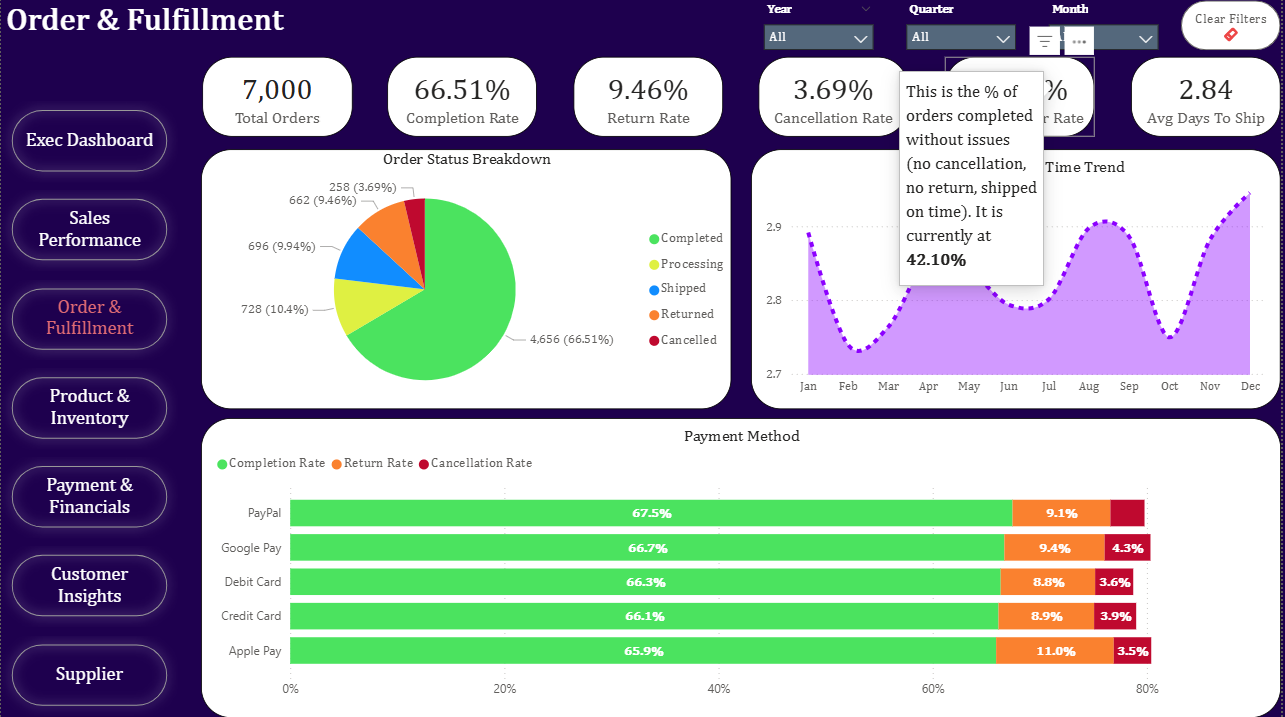

Layout of this report page (visuals, bound fields, positions):
{"tool":"powerbi","page":{"name":"Order & Fulfillment","canvas":[1280,720],"ordinal":2},"visuals":[{"type":"card","title":"Days To Ship","fields":{"Values":["Order & Fulfillment Measure.Days To Ship"]},"box":[1129.7,59,150,79.8],"z":0},{"type":"card","title":"Cancellation Rate","fields":{"Values":["Order & Fulfillment Measure.Cancellation Rate"]},"box":[758.1,59,150,79.8],"z":1000},{"type":"card","title":"Return Rate","fields":{"Values":["Order & Fulfillment Measure.Return Rate"]},"box":[572.3,59,150,79.8],"z":2000},{"type":"card","title":"Completion Rate","fields":{"Values":["Order & Fulfillment Measure.Completion Rate"]},"box":[386.5,59,150,79.8],"z":3000},{"type":"card","title":"Total Orders","fields":{"Values":["Order & Fulfillment Measure.Total Orders"]},"box":[200.6,59,150,80],"z":4000},{"type":"lineChart","title":"Average Fulfillment Time Trend","fields":{"Category":["Calendar.Month Name"],"Y":["Order & Fulfillment Measure.Days To Ship"]},"box":[750.3,151,529.7,260.4],"z":5000},{"type":"pieChart","title":"Order Status Breakdown","fields":{"Category":["orders.status"],"Y":["Order & Fulfillment Measure.Total Orders"]},"box":[200.3,151.4,530,260],"z":6000},{"type":"slicer","title":"Year","fields":{"Values":["Calendar.Year"]},"box":[752,0,130,55],"z":7000},{"type":"slicer","title":"Quarter","fields":{"Values":["Calendar.Quarter1"]},"box":[894.6,0,130,55],"z":8000},{"type":"slicer","title":"Month Slicer","fields":{"Values":["Calendar.Month Name"]},"box":[1037.2,0,130,55],"z":9000},{"type":"textbox","title":"Header Text Box","box":[0,0,294.8,51],"z":10000},{"type":"actionButton","title":"Clear Filter","box":[1180.5,2.5,99.5,49.8],"z":11000},{"type":"pageNavigator","box":[0,100.8,177.9,619.5],"z":12000},{"type":"barChart","title":"Payment Method","fields":{"Category":["orders.payment_method"],"Y":["Order & Fulfillment Measure.Completion Rate","Order & Fulfillment Measure.Return Rate","Order & Fulfillment Measure.Cancellation Rate"]},"box":[200.2,420.2,1079.8,299.8],"z":13000},{"type":"card","title":"Total Orders","fields":{"Values":["Order & Fulfillment Measure.Perfect Order Rate"]},"box":[943.9,59,150,79.8],"z":14000}]}

Visuals, with their boxes in screenshot pixels (x1, y1, x2, y2), scaled from the page's 1280x720 canvas onto the 1285x717 screenshot:
"Days To Ship" card: detection(1134, 59, 1284, 138)
"Cancellation Rate" card: detection(761, 59, 912, 138)
"Return Rate" card: detection(575, 59, 725, 138)
"Completion Rate" card: detection(388, 59, 539, 138)
"Total Orders" card: detection(201, 59, 352, 138)
"Average Fulfillment Time Trend" lineChart: detection(753, 150, 1284, 410)
"Order Status Breakdown" pieChart: detection(201, 151, 733, 410)
"Year" slicer: detection(755, 0, 885, 55)
"Quarter" slicer: detection(898, 0, 1029, 55)
"Month Slicer" slicer: detection(1041, 0, 1172, 55)
"Header Text Box" textbox: detection(0, 0, 296, 51)
"Clear Filter" actionButton: detection(1185, 2, 1284, 52)
pageNavigator: detection(0, 100, 179, 716)
"Payment Method" barChart: detection(201, 418, 1284, 716)
"Total Orders" card: detection(948, 59, 1098, 138)
